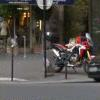Motorcycle: (45, 32, 95, 74)
